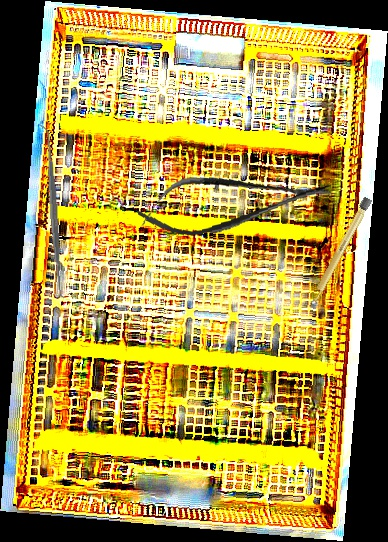Micro Scissor: (134, 161, 335, 244)
Scalpel Handle: (307, 196, 373, 307)
Spatula Surgical: (37, 123, 70, 300)
